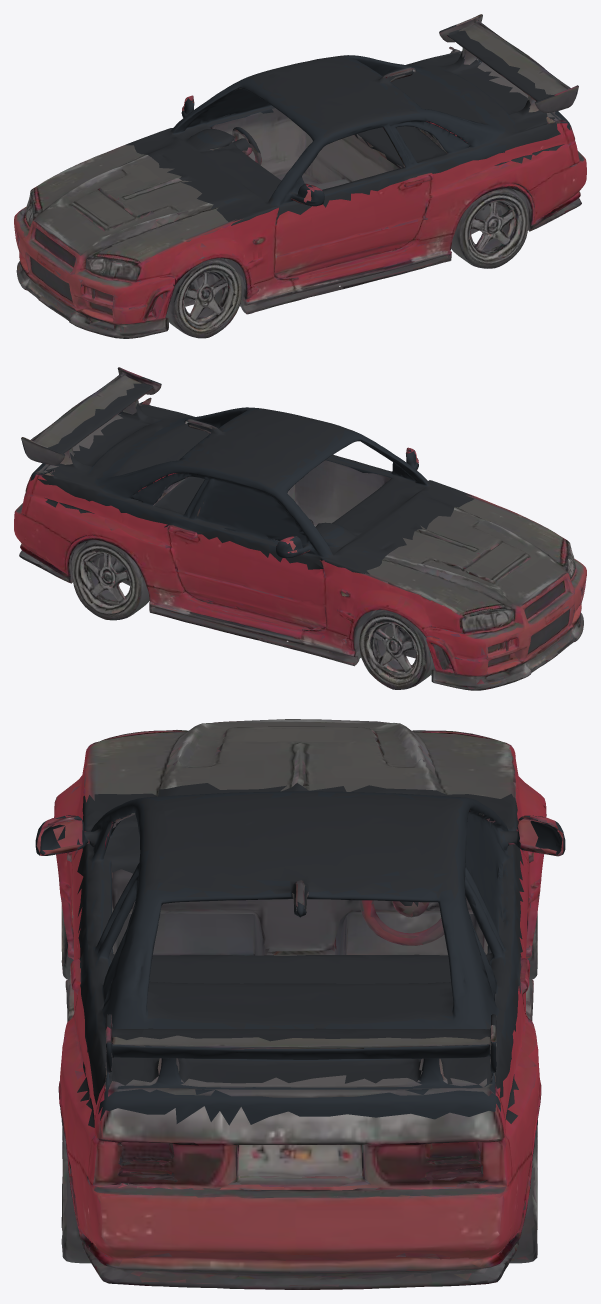
File: car_sport.glb
The picture shows the model from 3 angles, top to bottom: view 1: azimuth 30°, elevation 25°; view 2: azimuth 150°, elevation 25°; view 3: azimuth 270°, elevation 25°; orthographic projection. The views are drawn at different scales.
Visible parts, largest first — view 1: geometry_0; view 2: geometry_0; view 3: geometry_0.
Part boxes in pixels (x1=…): geometry_0: x1=14, y1=14, x2=586, y2=338; geometry_0: x1=14, y1=367, x2=586, y2=690; geometry_0: x1=35, y1=719, x2=565, y2=1289.
Size of the model in its own units: 4.76 by 1.5 by 2.19.
Materials: 3 (1 with a texture image).
